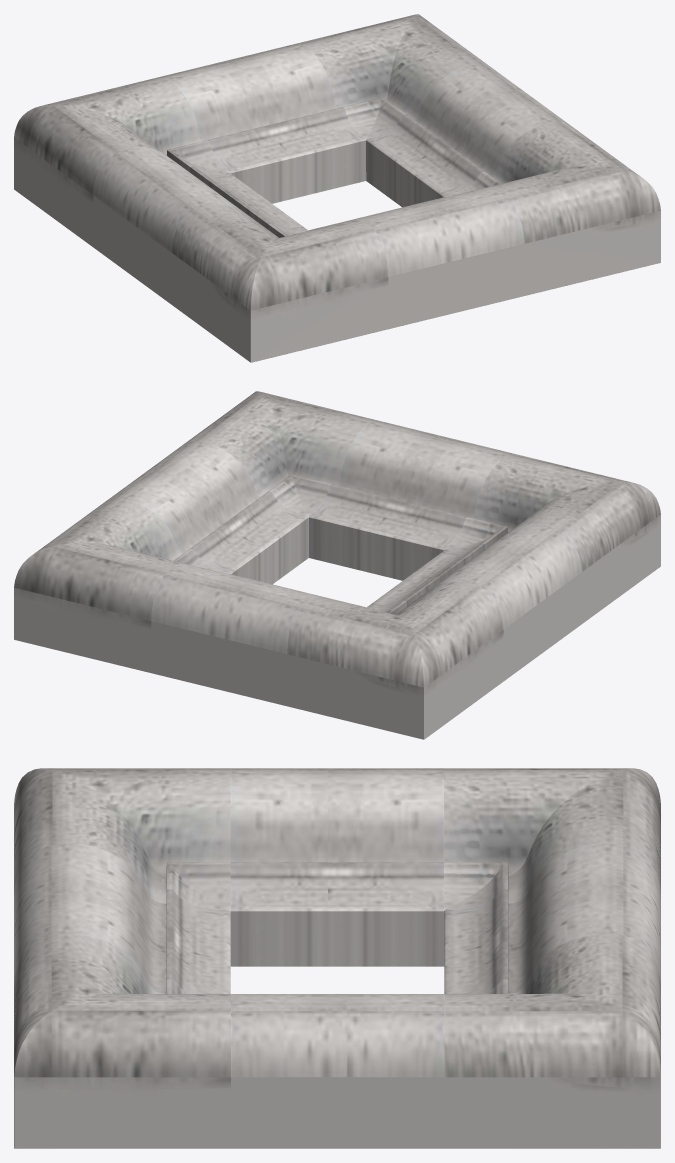
The model's file is website3-silver.FBX.
The picture shows the model from 3 angles, top to bottom: view 1: azimuth 30°, elevation 25°; view 2: azimuth 150°, elevation 25°; view 3: azimuth 270°, elevation 25°; orthographic projection. The views are drawn at different scales.
Parts seen in each view (by area): view 1: website3silver_Bottom_L_Corner, website3silver_Top, website3silver_Bottom_R_Corner, website3silver_top_L_Corner, website3silver_Bottom, website3silver_R, website3silver_L, website3silver_top_R_Corner; view 2: website3silver_top_L_Corner, website3silver_Bottom, website3silver_top_R_Corner, website3silver_Bottom_L_Corner, website3silver_Top, website3silver_R, website3silver_L, website3silver_Bottom_R_Corner; view 3: website3silver_L, website3silver_top_R_Corner, website3silver_Bottom_R_Corner, website3silver_R, website3silver_top_L_Corner, website3silver_Bottom_L_Corner, website3silver_Bottom, website3silver_Top.
Boxes of the visible parts, x1,y1,x2,y2 form: website3silver_Bottom_L_Corner: [171, 204, 388, 362]; website3silver_Top: [162, 43, 365, 203]; website3silver_Bottom_R_Corner: [445, 121, 660, 295]; website3silver_top_L_Corner: [14, 76, 230, 246]; website3silver_Bottom: [310, 186, 523, 329]; website3silver_R: [366, 64, 567, 207]; website3silver_L: [93, 147, 307, 303]; website3silver_top_R_Corner: [297, 14, 489, 180]; website3silver_top_L_Corner: [286, 581, 503, 739]; website3silver_Bottom: [309, 420, 512, 580]; website3silver_top_R_Corner: [14, 498, 229, 672]; website3silver_Bottom_L_Corner: [444, 453, 660, 623]; website3silver_Top: [151, 563, 364, 706]; website3silver_R: [107, 441, 308, 584]; website3silver_L: [367, 524, 581, 680]; website3silver_Bottom_R_Corner: [185, 391, 377, 557]; website3silver_L: [230, 768, 443, 966]; website3silver_top_R_Corner: [444, 933, 660, 1148]; website3silver_Bottom_R_Corner: [14, 933, 230, 1148]; website3silver_R: [231, 994, 444, 1148]; website3silver_top_L_Corner: [444, 768, 660, 966]; website3silver_Bottom_L_Corner: [14, 768, 230, 910]; website3silver_Bottom: [14, 843, 230, 993]; website3silver_Top: [444, 843, 660, 993].
Bounding box in the file's own units: 395 × 395 × 83.22.
2 materials, 2 textured.
